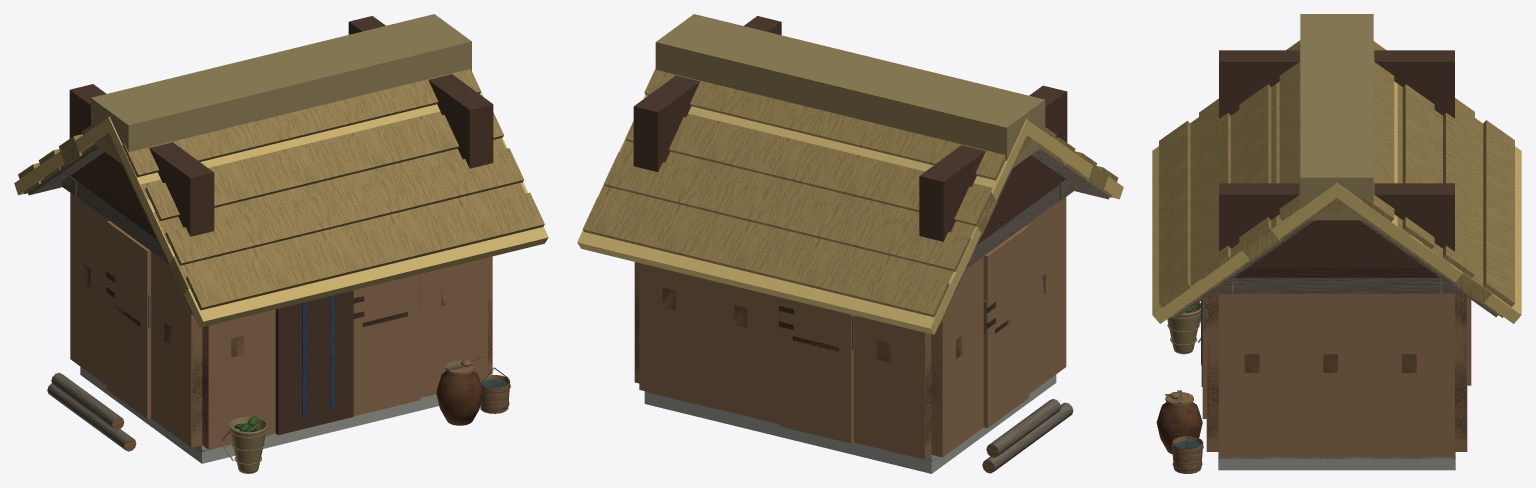
Rendered from kit_hut_mud.gltf.
The picture shows the model from 3 angles, left to right: view 1: azimuth 30°, elevation 25°; view 2: azimuth 150°, elevation 25°; view 3: azimuth 270°, elevation 25°; orthographic projection. The views are drawn at different scales.
Parts seen in each view (by area): view 1: Far, Near, Detail; view 2: Far, Near, Detail; view 3: Far, Near, Detail.
Boxes of the visible parts, bbox=[...] form: Far: bbox=[14, 14, 548, 463]; Near: bbox=[18, 69, 544, 451]; Detail: bbox=[47, 354, 510, 473]; Far: bbox=[577, 14, 1123, 473]; Near: bbox=[582, 69, 1118, 461]; Detail: bbox=[982, 399, 1073, 473]; Far: bbox=[1152, 14, 1521, 470]; Near: bbox=[1159, 40, 1514, 458]; Detail: bbox=[1156, 302, 1203, 473].
Size of the model in its own units: 5.16 by 4.32 by 4.69.
20 materials, 19 textured.
